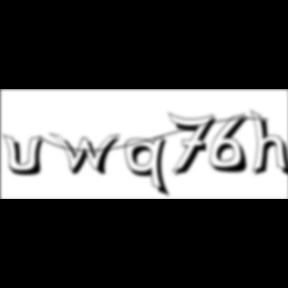6: (210, 112, 256, 176)
7: (168, 111, 224, 179)
q: (126, 135, 174, 200)
u: (3, 132, 51, 178)
w: (50, 132, 128, 178)
